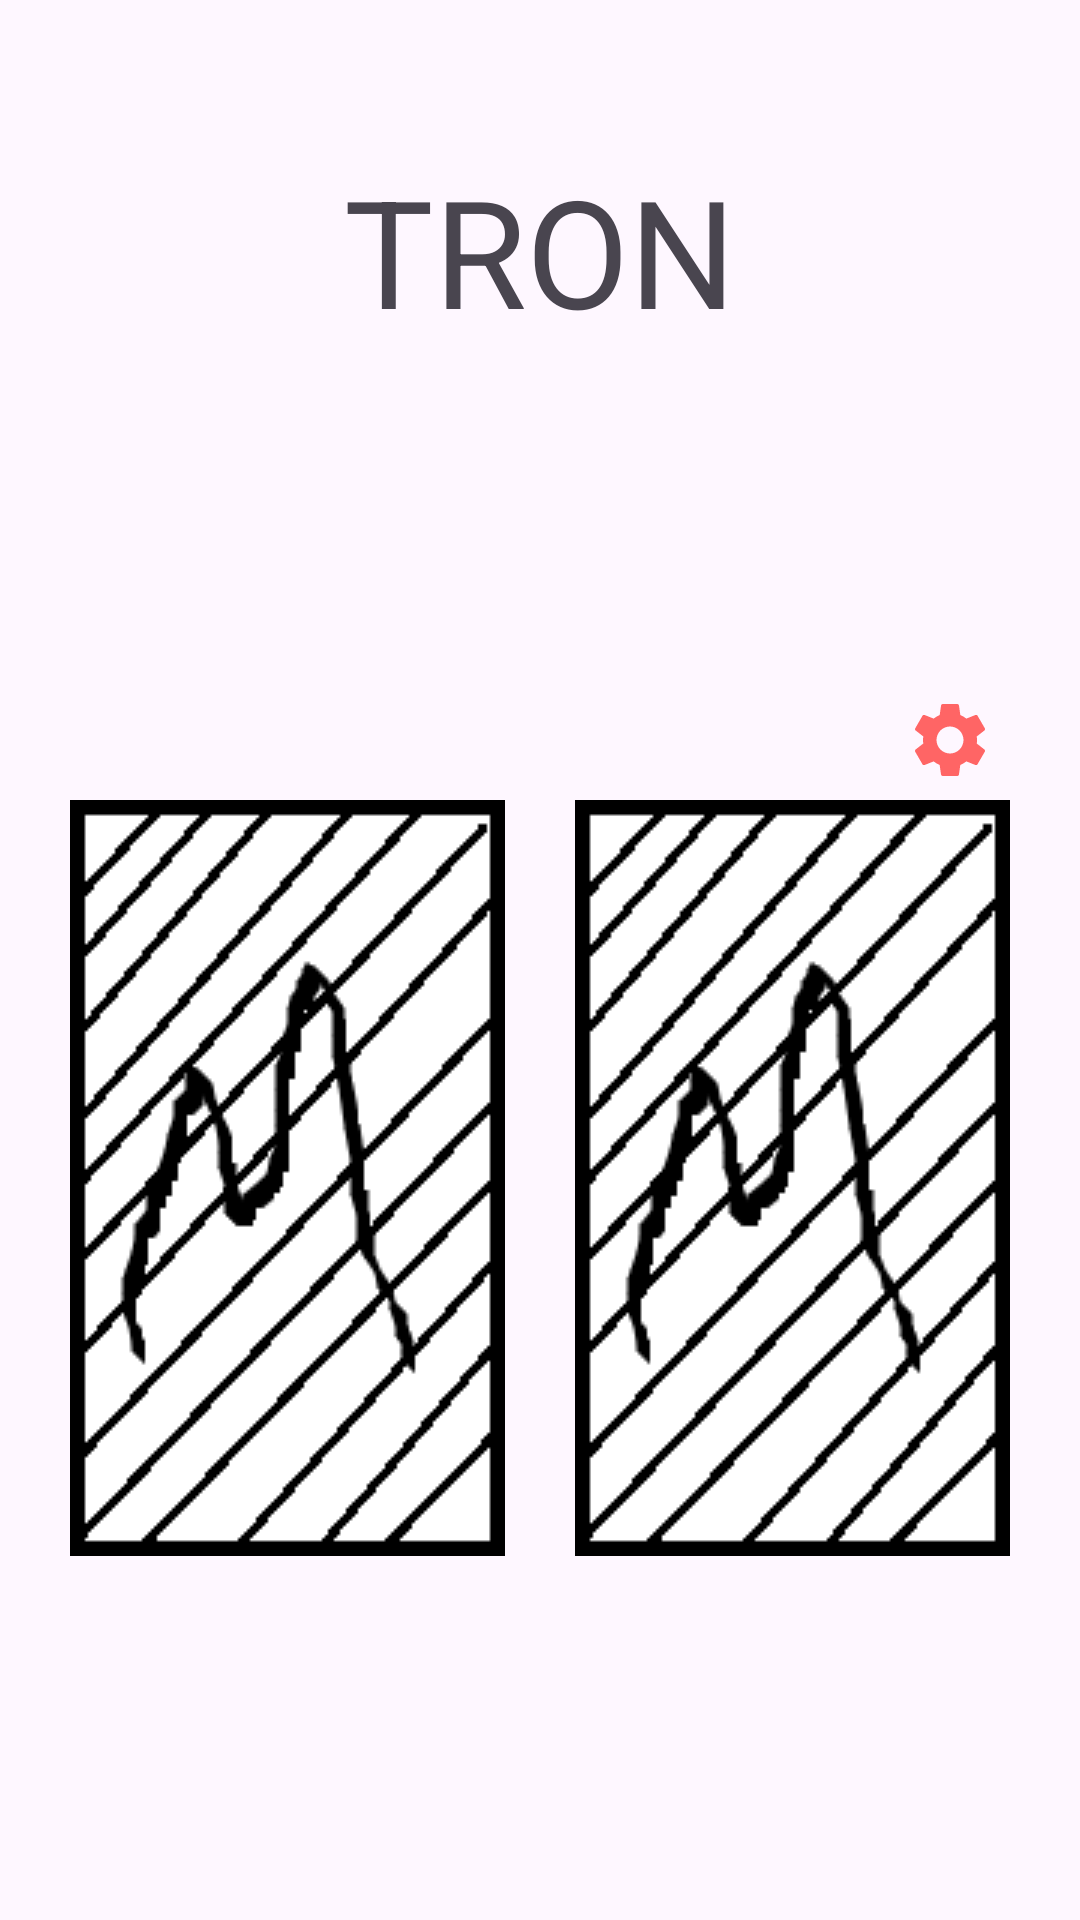

Locate icon controls on the screen. Image size 1080px x 1920px, boxes as [x1,y1,x2,y2].
settings: [915,704,985,776]
